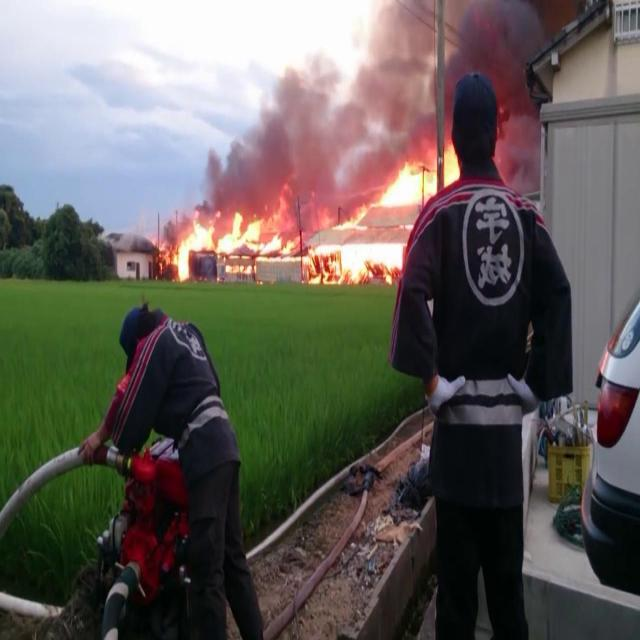Fire: (167, 216, 300, 280), (377, 150, 459, 206), (304, 242, 406, 282), (331, 203, 367, 230)
